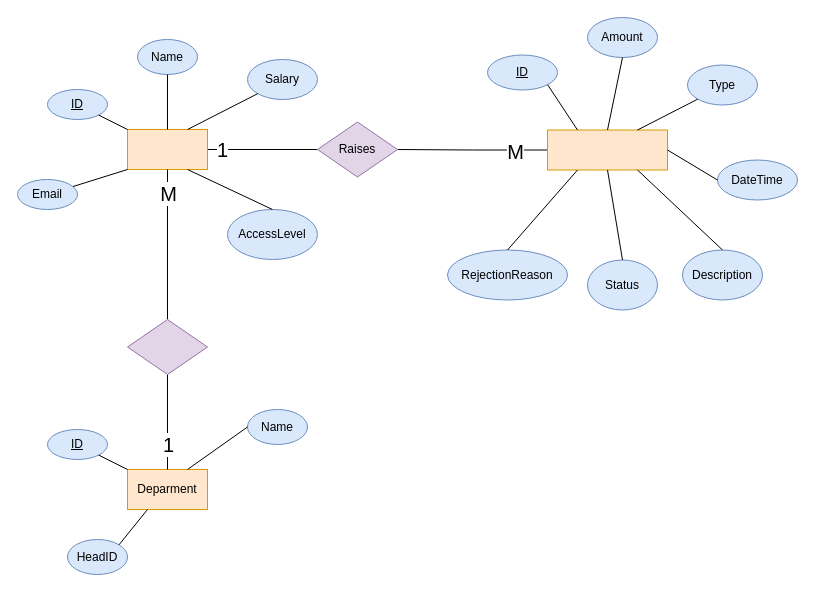
The diagram is 815 pixels wide and 592 high, and some of its shapes have lost their labels. The shapes that lost their labels are listed below. From the top down, each one's centre as x and y in pixels, then its label:
At [167,149]: "Employee".
At [607,149]: "ExpenseRequest".
At [167,346]: "Has".
